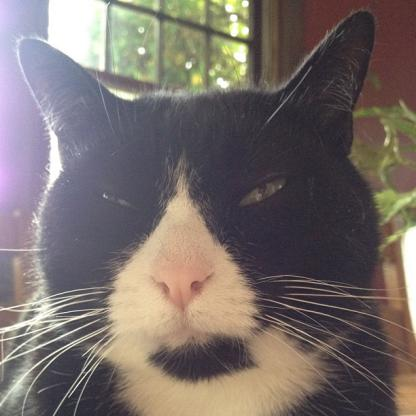Target: (7, 8, 396, 416)
